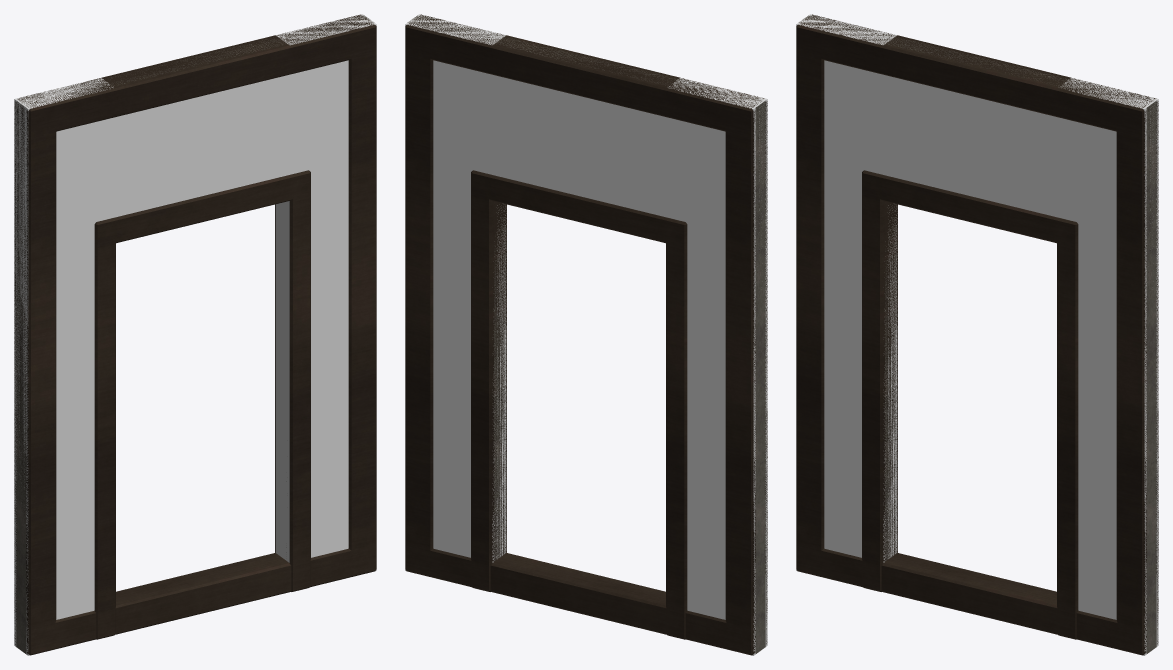
Rendered from ak_wall_interior_2x3_door.glb.
The picture shows the model from 3 angles, left to right: view 1: azimuth 30°, elevation 25°; view 2: azimuth 150°, elevation 25°; view 3: azimuth 330°, elevation 25°; orthographic projection.
Visible parts, largest first — view 1: frame, col_wall_L, col_wall_R, col_wall_top, wall; view 2: frame, col_wall_L, col_wall_R, col_wall_top, wall; view 3: frame, col_wall_R, col_wall_L, col_wall_top, wall.
Boxes of the visible parts, bbox=[...] form: frame: bbox=[14, 14, 376, 655]; col_wall_L: bbox=[14, 78, 115, 655]; col_wall_R: bbox=[275, 14, 376, 571]; col_wall_top: bbox=[115, 74, 289, 217]; wall: bbox=[16, 15, 374, 653]; frame: bbox=[405, 14, 767, 655]; col_wall_L: bbox=[666, 78, 767, 655]; col_wall_R: bbox=[405, 14, 506, 571]; col_wall_top: bbox=[492, 74, 666, 217]; wall: bbox=[407, 15, 765, 653]; frame: bbox=[796, 14, 1158, 655]; col_wall_R: bbox=[1057, 78, 1158, 655]; col_wall_L: bbox=[796, 14, 897, 571]; col_wall_top: bbox=[883, 74, 1057, 217]; wall: bbox=[798, 15, 1156, 653].
Bounding box in the file's own units: 2 × 3 × 0.17.
2 materials, 2 textured.
